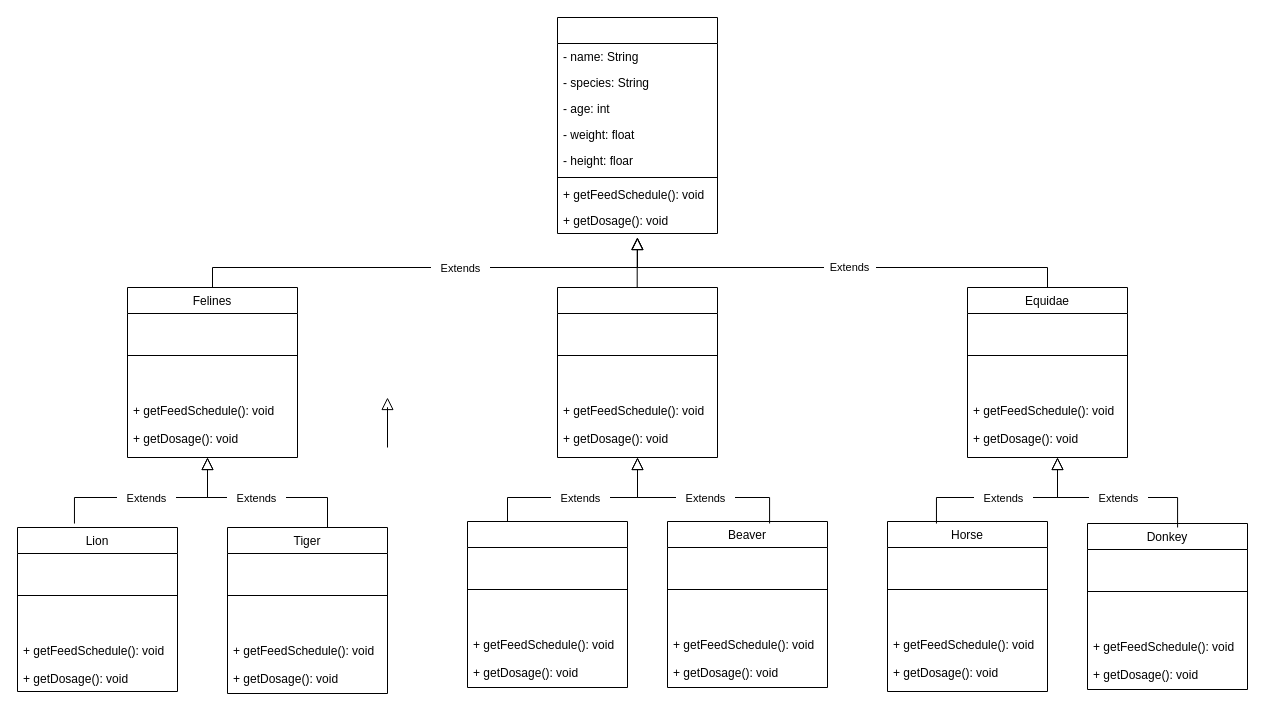
Image size: 1265x712. Some labels were removed from this diagram. Here are the shapes that lost their labels. From the top down, the box of each, then its label:
(556, 16, 718, 234): Animal
(556, 286, 718, 458): Rodent
(466, 520, 628, 688): Rat
